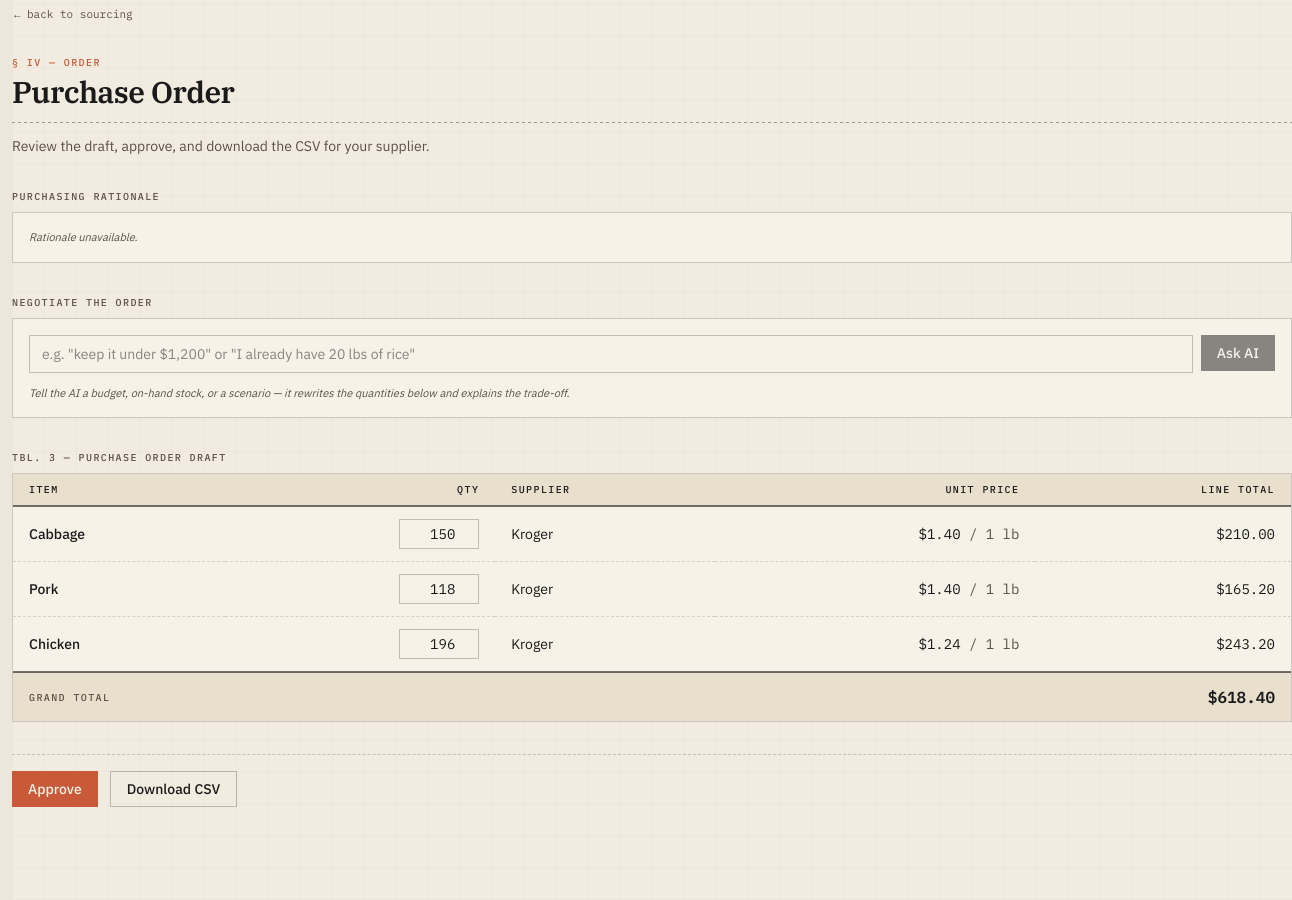
Scenario: Order screen › renders the PO with a grand total and an approve action
The image size is (1292, 900).
Expected: the text "cabbage" is shown, [13, 506, 225, 562]
Expected: the text "$618.40" is shown, [1035, 672, 1291, 721]
What coordinates should you click on to do the following:
click the button "Approve"
I would click on:
 (55, 789)
Its box is [12, 771, 98, 807].
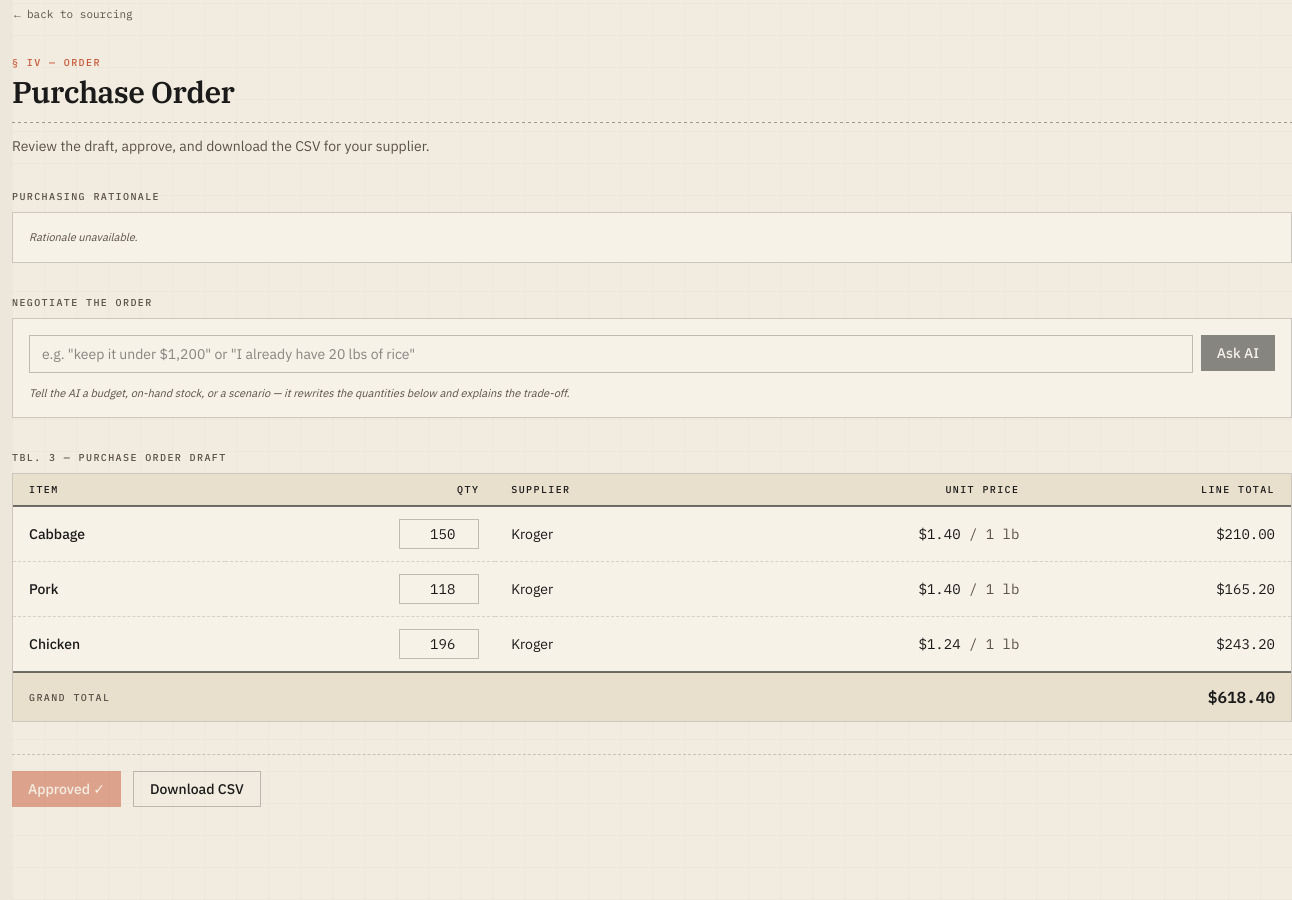
Now the button "Approved ✓" is shown, box [12, 771, 121, 807]
